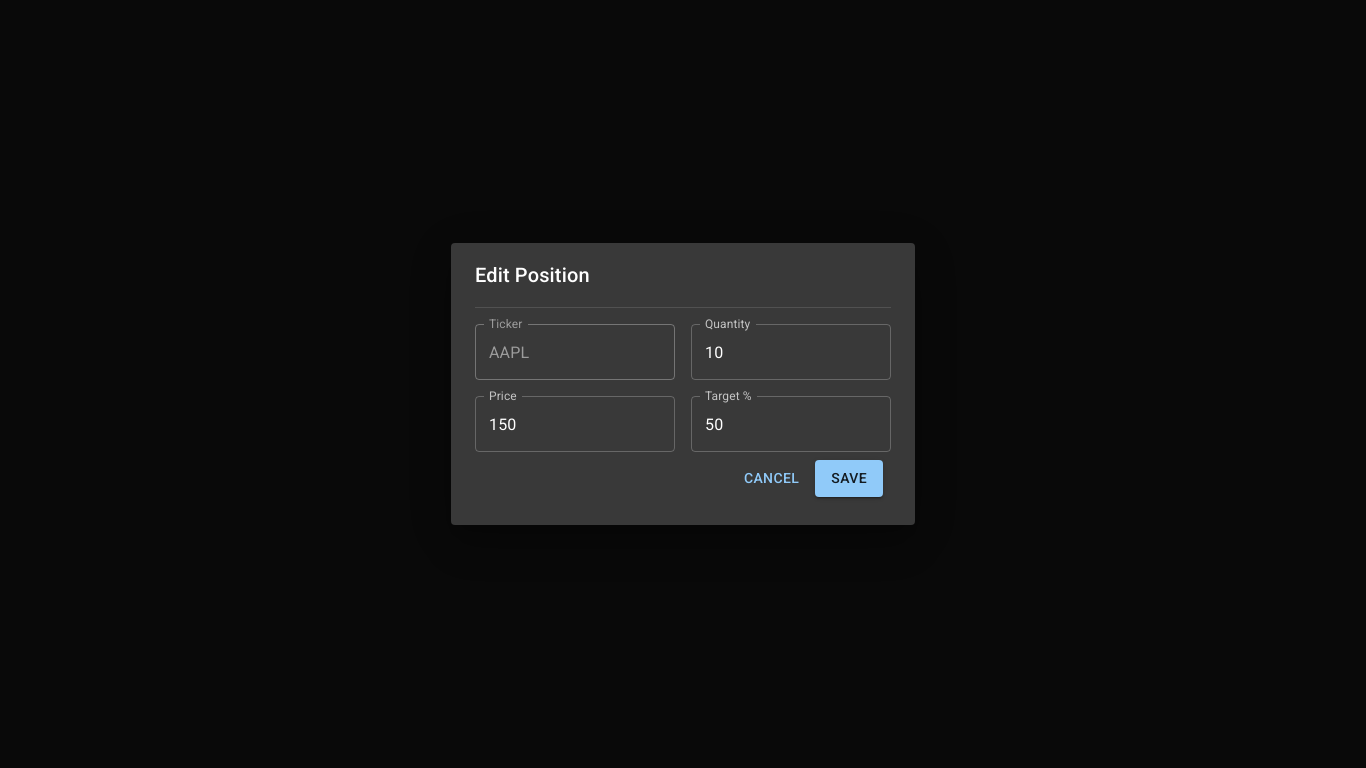
Test case: PositionFormDialog › shows validation errors for invalid input
Replace the text in the field labelled "Quantity" with "-1". click: (791, 352)
box: [691, 324, 891, 380]
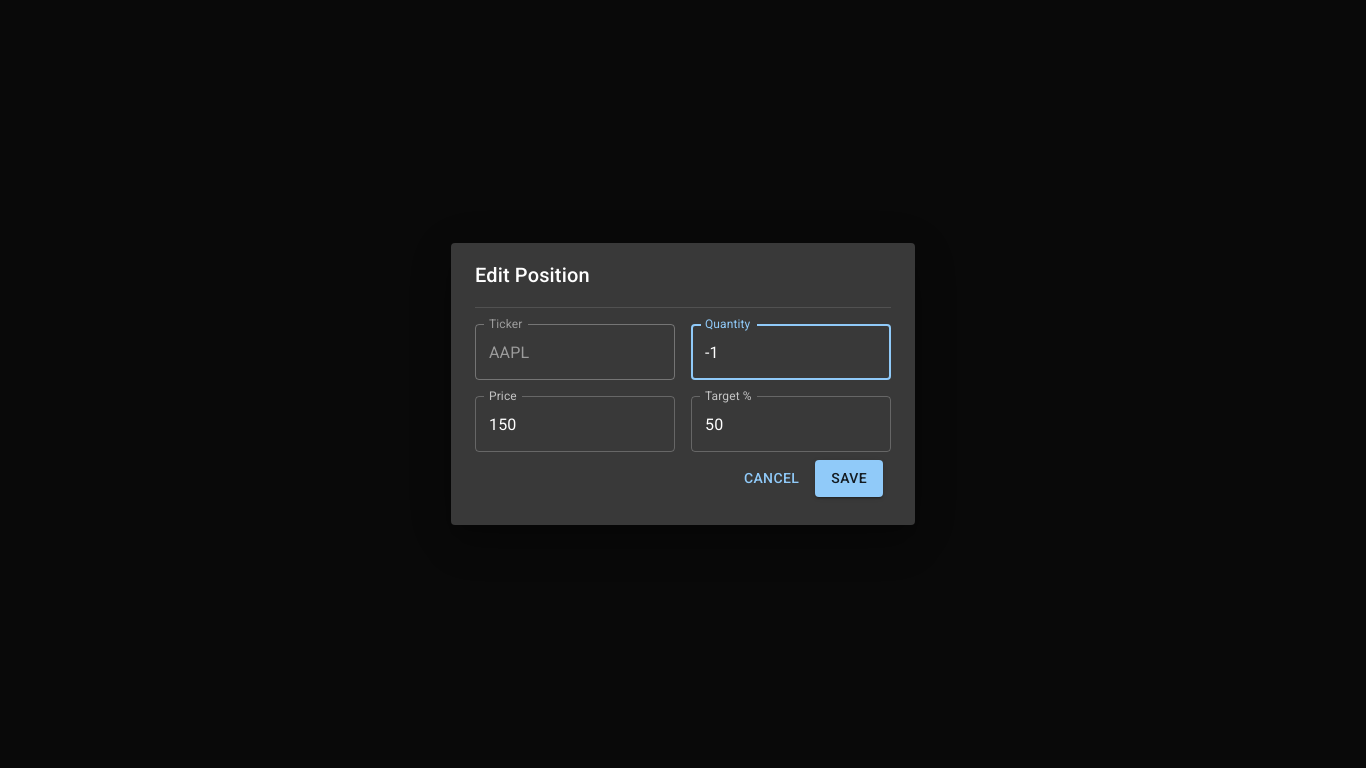
Replace the text in the field labelled "Price" with "-100". click: (575, 424)
box: [475, 396, 675, 452]
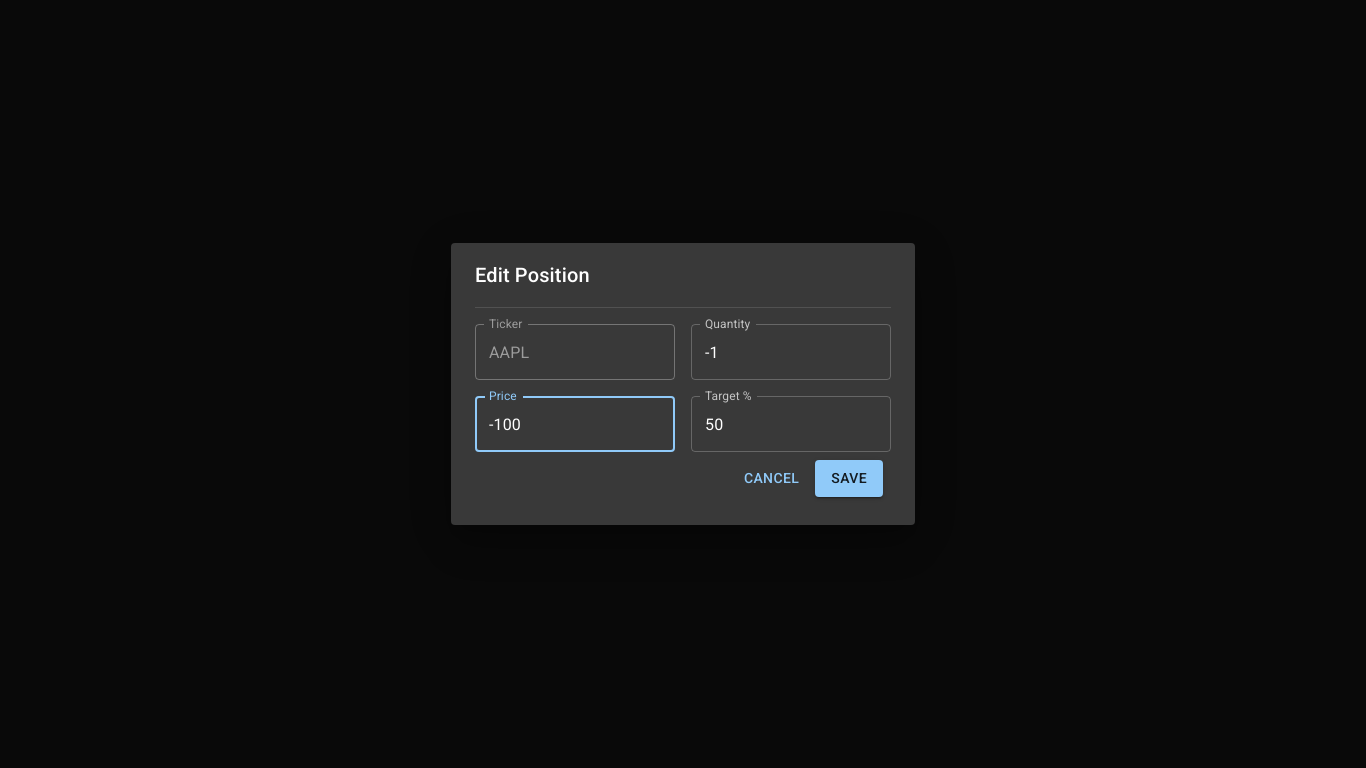
Replace the text in the field labelled "Target %" with "150". click: (791, 424)
box: [691, 396, 891, 452]
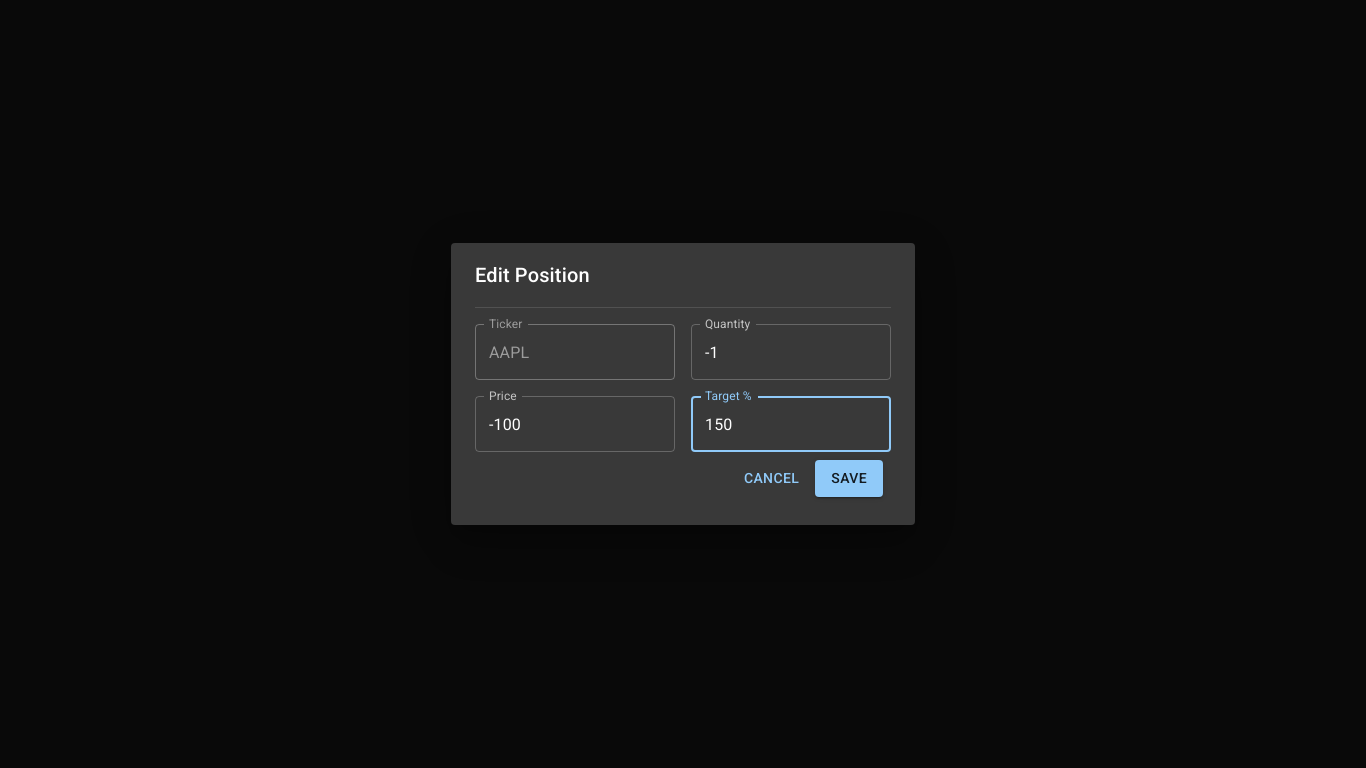
Click the button "Save". click: (849, 479)
box: [815, 460, 883, 497]
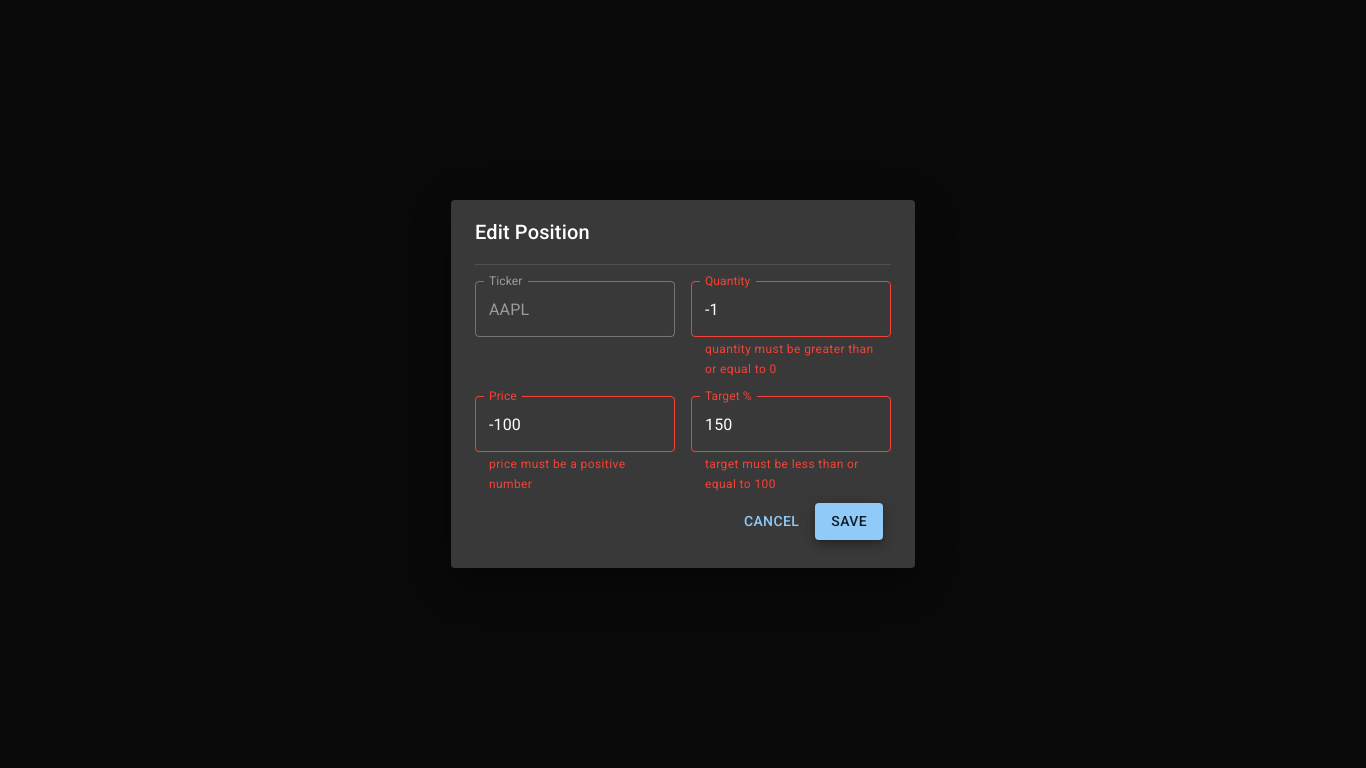
expect the text "quantity must be greater than or equal to 0" is shown: met, box [705, 340, 877, 380]
expect the text "price must be a positive number" is shown: met, box [489, 457, 625, 491]
expect the text "target must be less than or equal to 100" is shown: met, box [705, 455, 877, 495]
